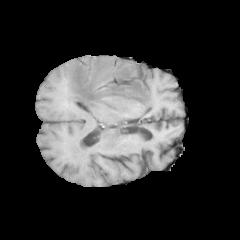glioma: (64, 58, 154, 120)
